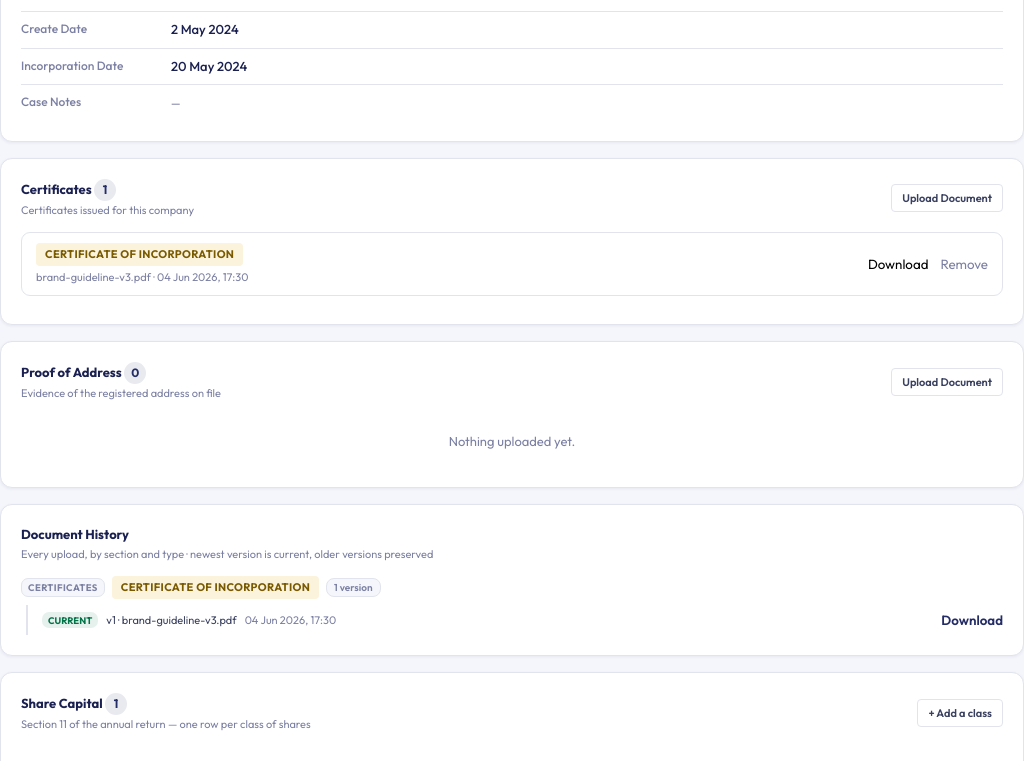
it: CompanyProfilePage › scopes the upload picker to the section it was opened from
(page scrolled)
Expected: the text "Document History" is shown, [21,526,129,542]
Click the button "Upload Document" in the row of "Proof of Address" at (947, 382), box [891,368,1003,396]
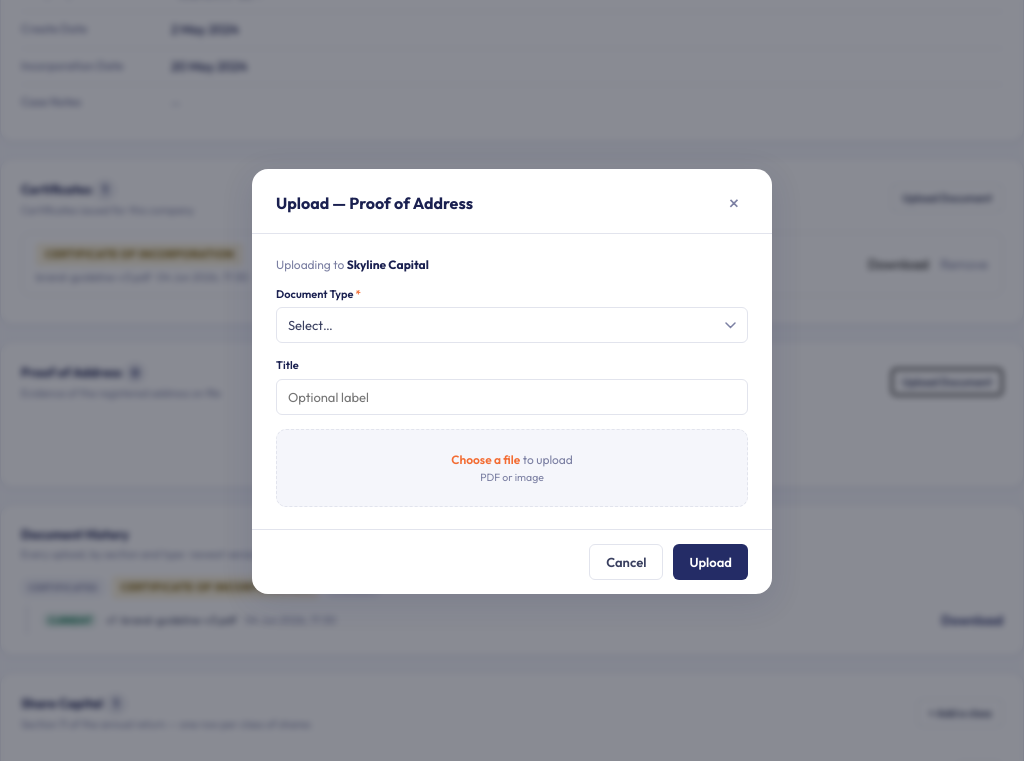
Now the dialog named "Upload Document" is shown, box [252,168,772,594]
